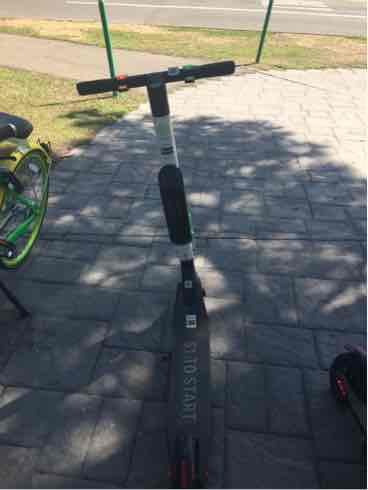scooter: (53, 48, 268, 488)
